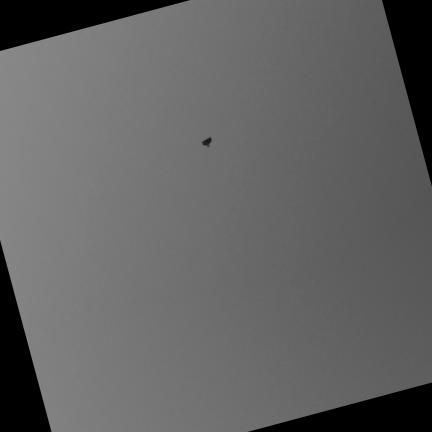Shahed: (200, 136, 211, 147)
